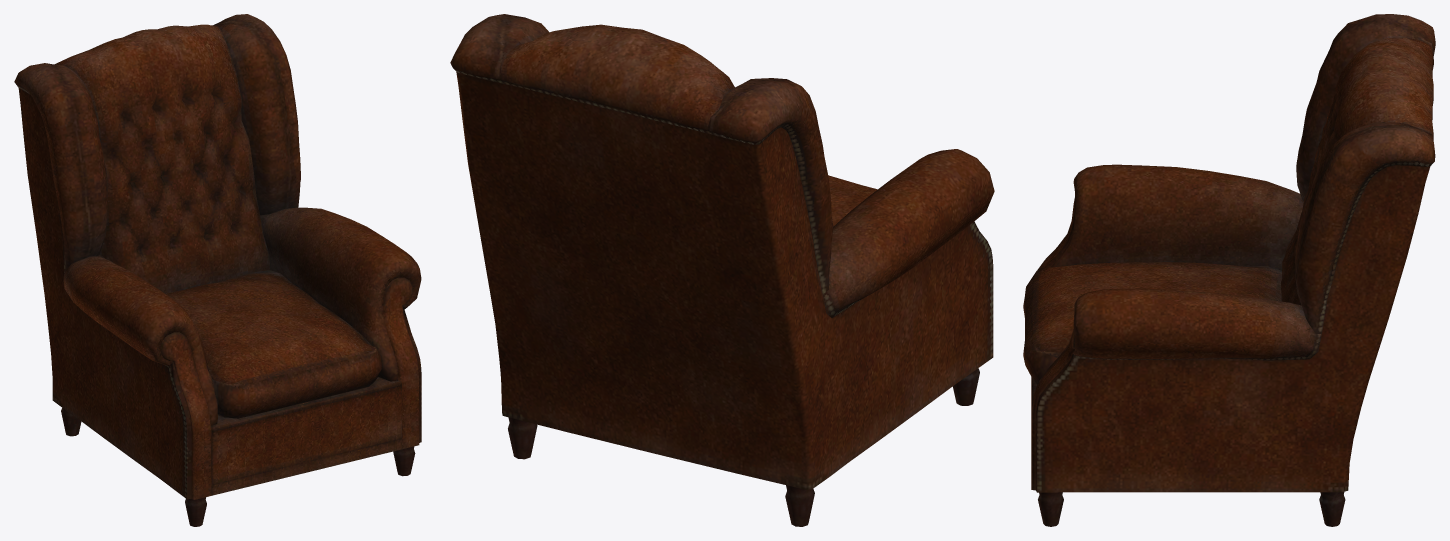
File: 041_leathersofa01a.fbx
3 views of the same model, side by side, from view 1: azimuth 30°, elevation 25°; view 2: azimuth 150°, elevation 25°; view 3: azimuth 270°, elevation 25° (orthographic). The views are drawn at different scales.
Visible parts, largest first — view 1: LOD_1_Group_0_Sub_1__sm30_041_LeatherSofa01A_A_Mat; view 2: LOD_1_Group_0_Sub_1__sm30_041_LeatherSofa01A_A_Mat; view 3: LOD_1_Group_0_Sub_1__sm30_041_LeatherSofa01A_A_Mat.
Part boxes in pixels (bbox=[...]): LOD_1_Group_0_Sub_1__sm30_041_LeatherSofa01A_A_Mat: bbox=[14, 14, 421, 526]; LOD_1_Group_0_Sub_1__sm30_041_LeatherSofa01A_A_Mat: bbox=[450, 14, 994, 526]; LOD_1_Group_0_Sub_1__sm30_041_LeatherSofa01A_A_Mat: bbox=[1023, 14, 1435, 526].
Bounding box in the file's own units: 0.9611 × 1.18 × 1.08.
